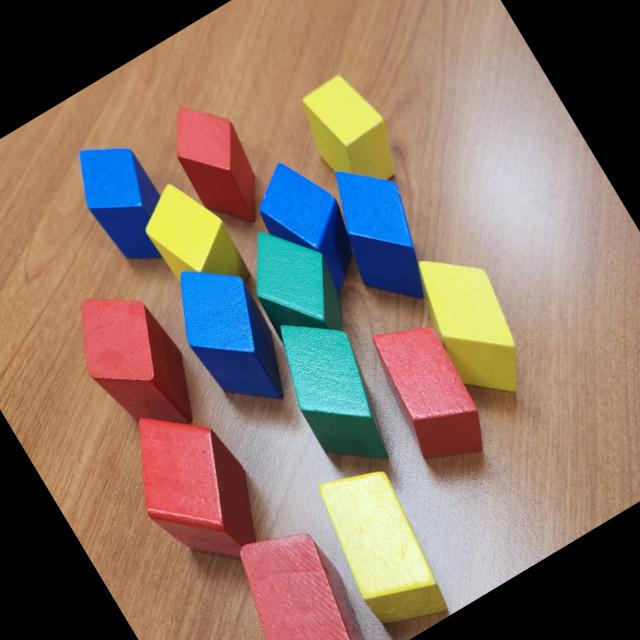blue: (154, 245, 308, 426), (306, 148, 455, 322), (240, 147, 380, 312), (60, 126, 189, 278)
green: (256, 297, 416, 486), (226, 208, 362, 360)
red: (103, 383, 284, 587), (55, 270, 216, 456), (355, 306, 503, 480), (214, 509, 388, 640), (153, 86, 282, 240)
yellow: (300, 452, 462, 640), (398, 234, 548, 413), (132, 170, 256, 312), (290, 66, 414, 206)
